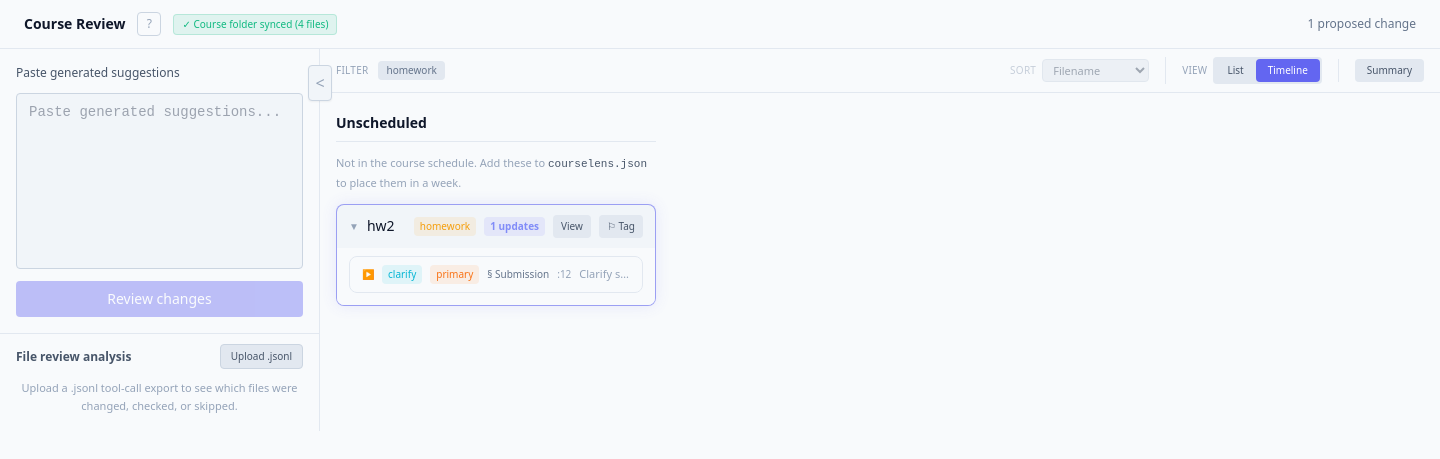
Test case: Course Review duplicate changes › opens the stable private homework preview when grouped changes reference source content
Click the button "View" at (572, 226), box [553, 215, 591, 238]
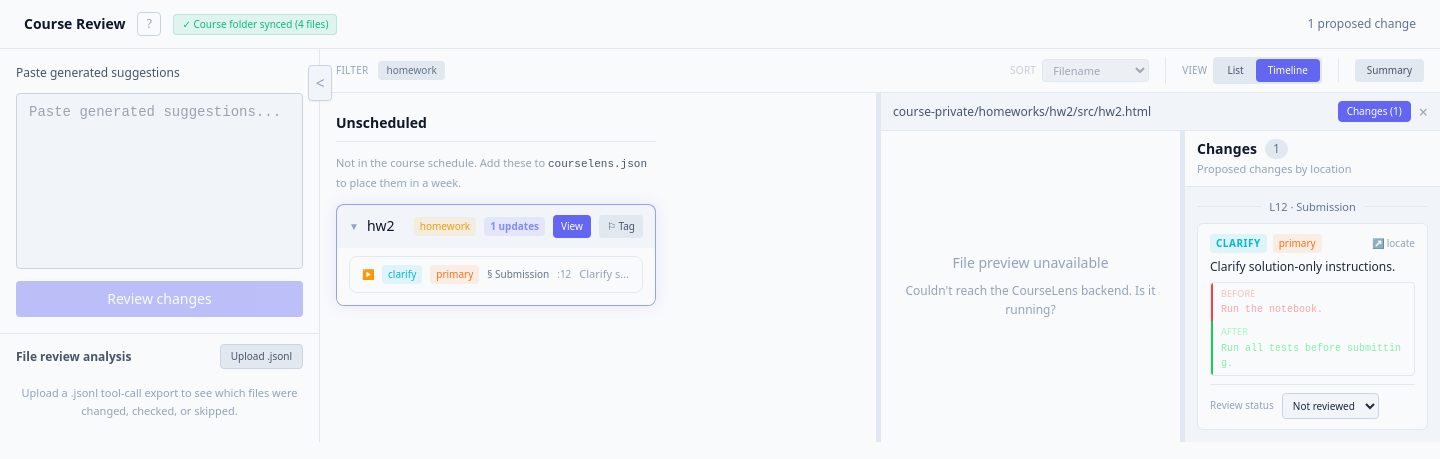
Check: the text "course-private/homeworks/hw2/src/hw2.html" is shown, box [893, 104, 1151, 120]
